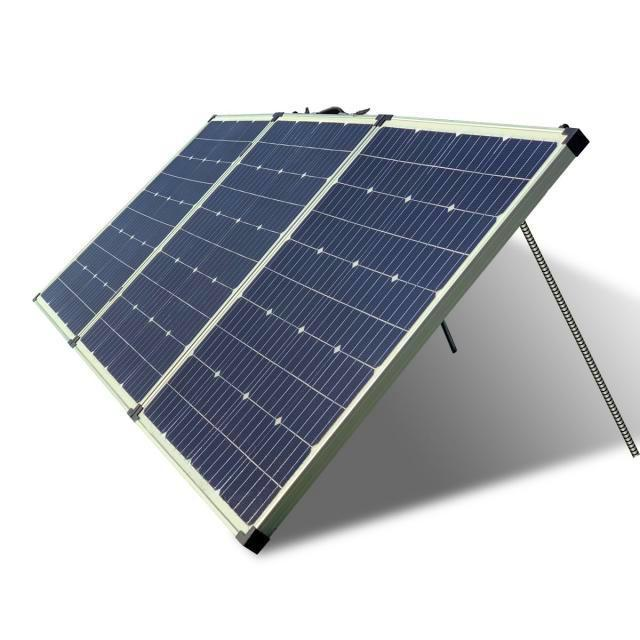no faulty: (40, 88, 570, 525)
